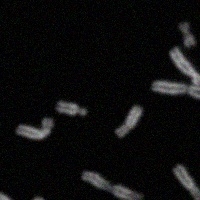chromosome: (82, 171, 143, 200), (169, 47, 200, 85), (173, 164, 200, 200), (115, 105, 142, 138), (150, 81, 200, 98), (15, 117, 52, 138), (56, 100, 86, 116), (179, 21, 194, 46), (0, 191, 19, 200), (23, 197, 45, 200)
